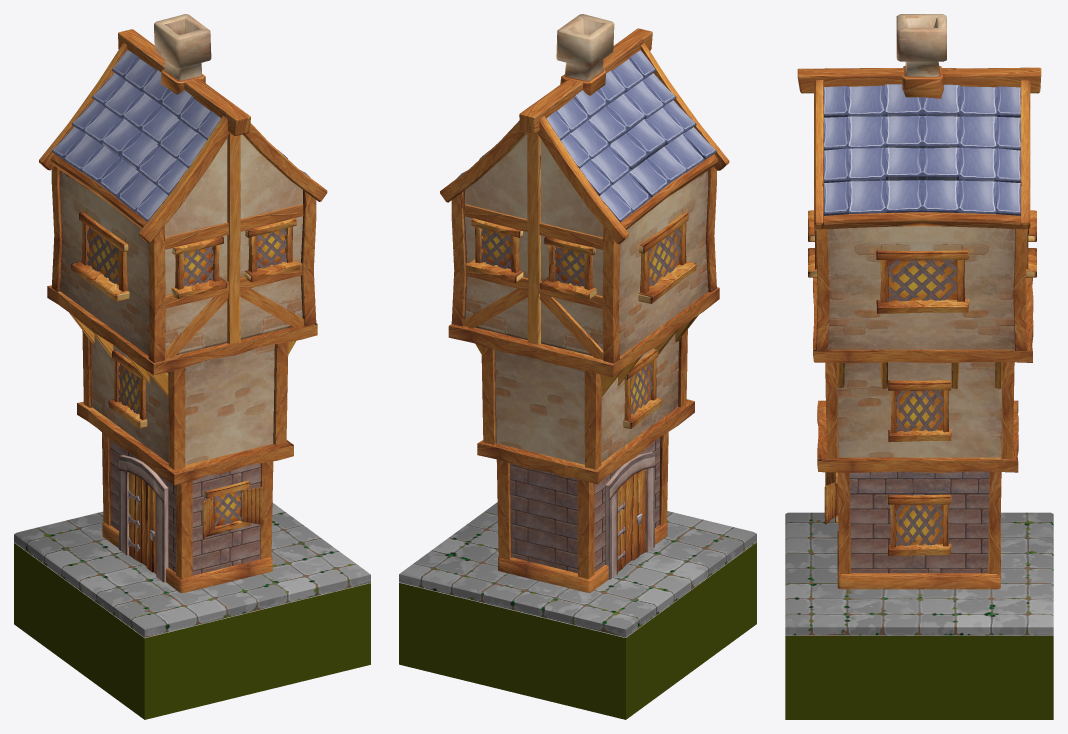
The model's file is med_house_03.fbx.
3 renders of one model, left to right at view 1: azimuth 30°, elevation 25°; view 2: azimuth 150°, elevation 25°; view 3: azimuth 270°, elevation 25°, orthographic. The views are drawn at different scales.
Visible parts, largest first — view 1: House_03_Mesh, med_house_03; view 2: House_03_Mesh, med_house_03; view 3: House_03_Mesh, med_house_03.
Part boxes in pixels (left/top/right/bottom): House_03_Mesh: left=14, top=14, right=370, bottom=637; med_house_03: left=14, top=542, right=370, bottom=719; House_03_Mesh: left=399, top=14, right=756, bottom=637; med_house_03: left=399, top=542, right=756, bottom=719; House_03_Mesh: left=785, top=14, right=1053, bottom=635; med_house_03: left=785, top=635, right=1053, bottom=719.
Bounding box in the file's own units: 100 × 262 × 100.
